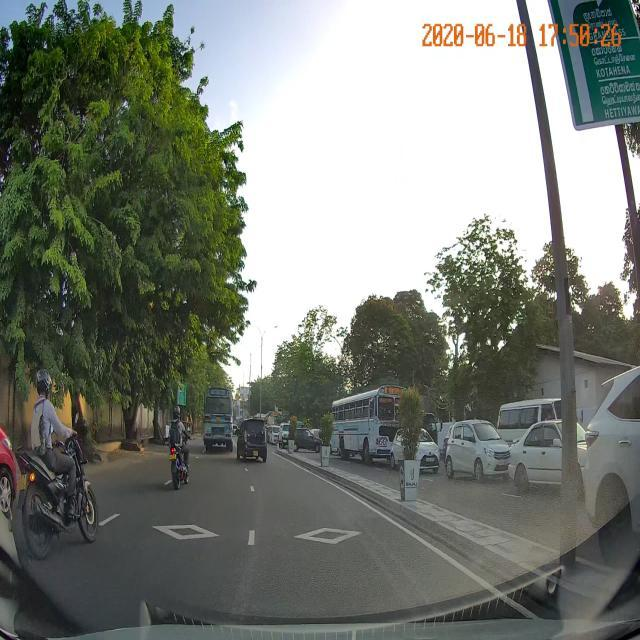diamond: (239, 503, 457, 570)
